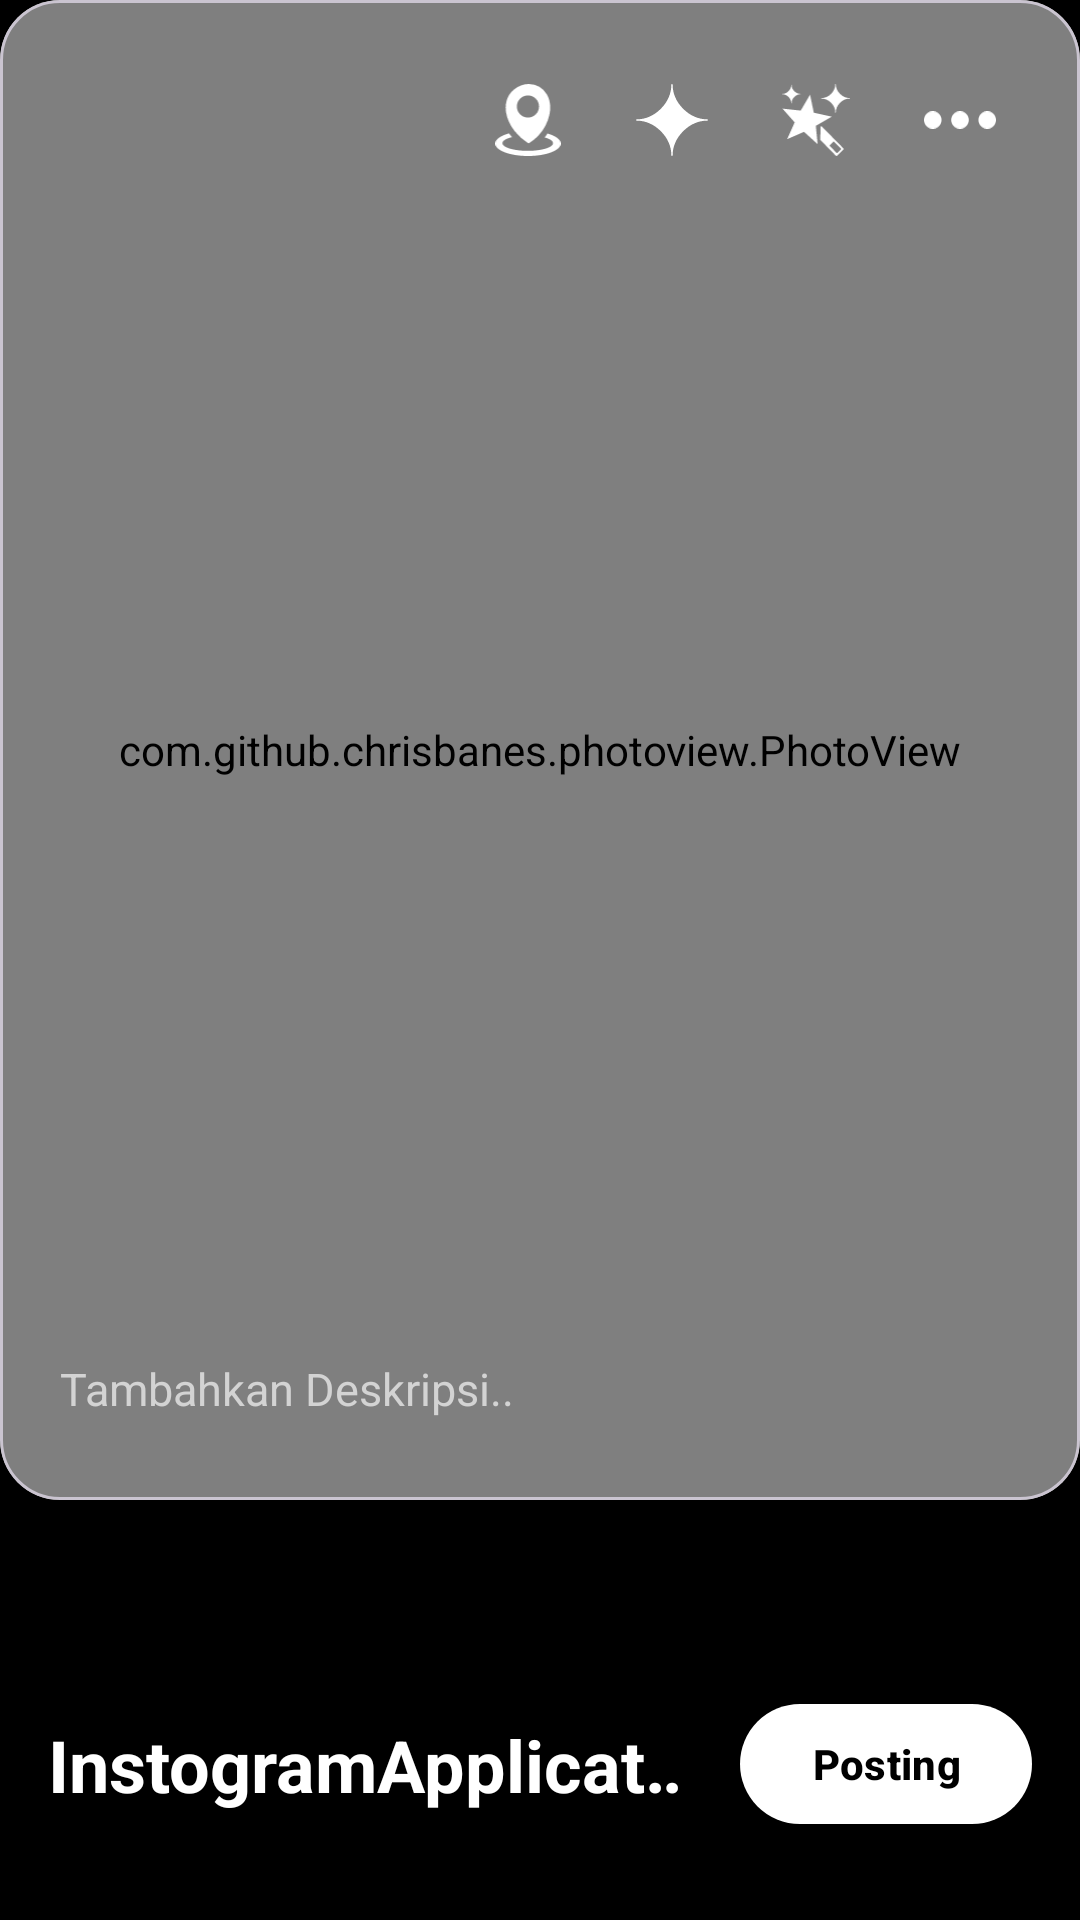

Locate icon controls on the screen. Image size 1080w x 1920h, boxes as bbox=[x1, y1, x2, y2].
filter: bbox=[782, 84, 850, 156]
marker balon: bbox=[495, 84, 561, 156]
opsi: bbox=[924, 111, 996, 129]
sticker: bbox=[636, 84, 708, 156]
